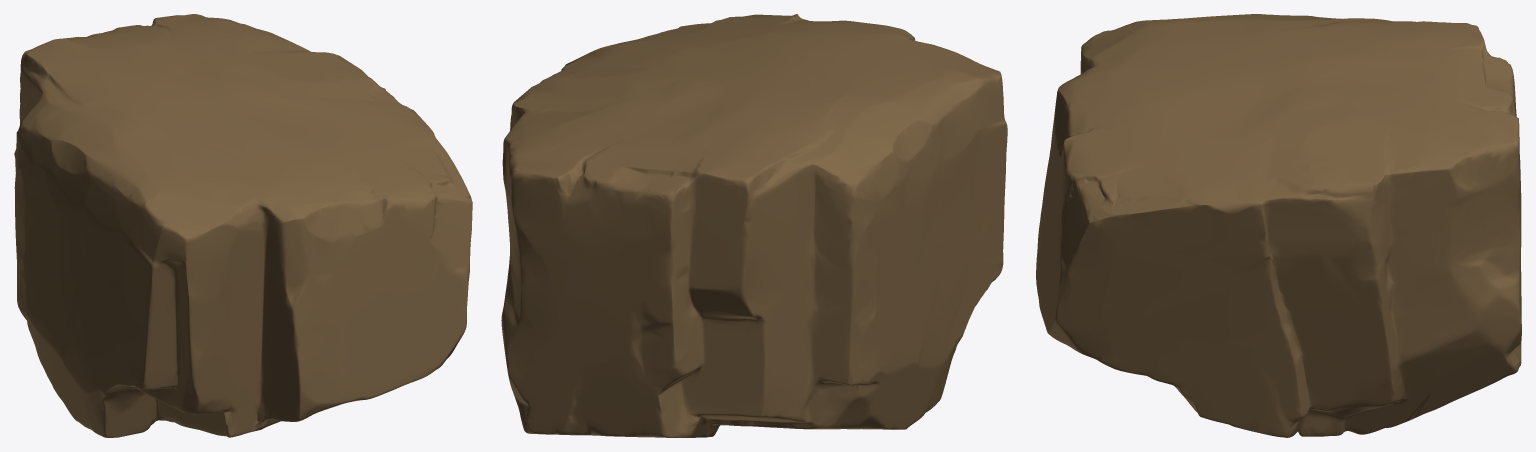
The picture shows the model from 3 angles, left to right: view 1: azimuth 30°, elevation 25°; view 2: azimuth 150°, elevation 25°; view 3: azimuth 270°, elevation 25°; orthographic projection. The views are drawn at different scales.
Parts seen in each view (by area): view 1: SM_BM_Cliff_Top_01_LOD0; view 2: SM_BM_Cliff_Top_01_LOD0; view 3: SM_BM_Cliff_Top_01_LOD0.
Boxes of the visible parts, x1=… form: SM_BM_Cliff_Top_01_LOD0: x1=14, y1=14, x2=472, y2=437; SM_BM_Cliff_Top_01_LOD0: x1=501, y1=14, x2=1007, y2=437; SM_BM_Cliff_Top_01_LOD0: x1=1036, y1=14, x2=1521, y2=437.
Bounding box in the file's own units: 16.76 × 15.1 × 20.84.
